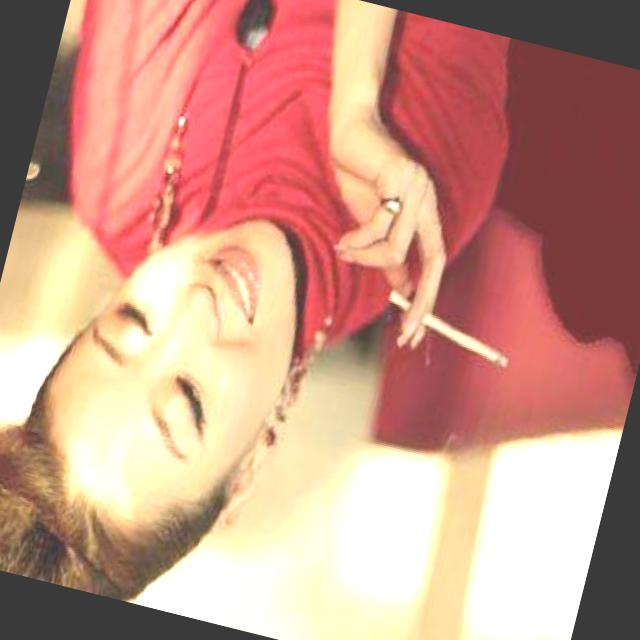smoke: (371, 275, 521, 382)
